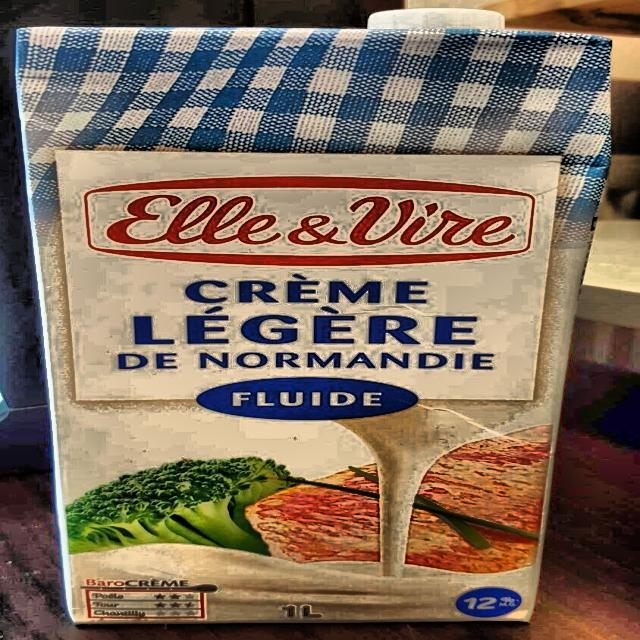cardboard: (13, 23, 614, 624)
